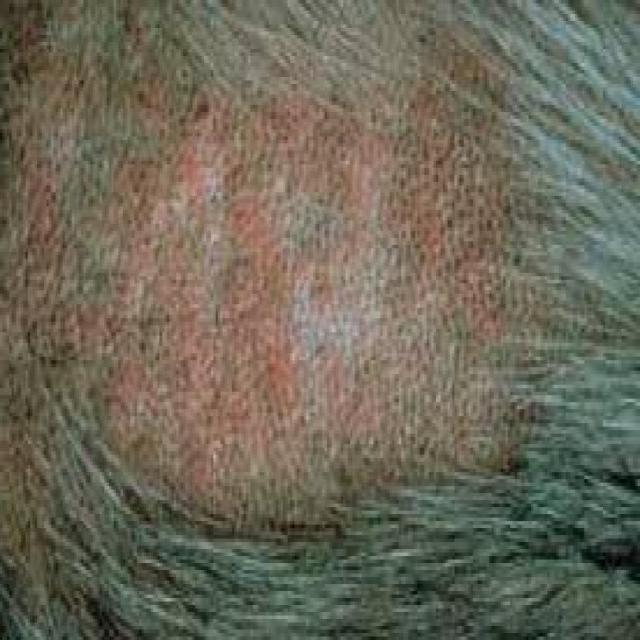allergic dermatitis: (77, 71, 490, 497)
